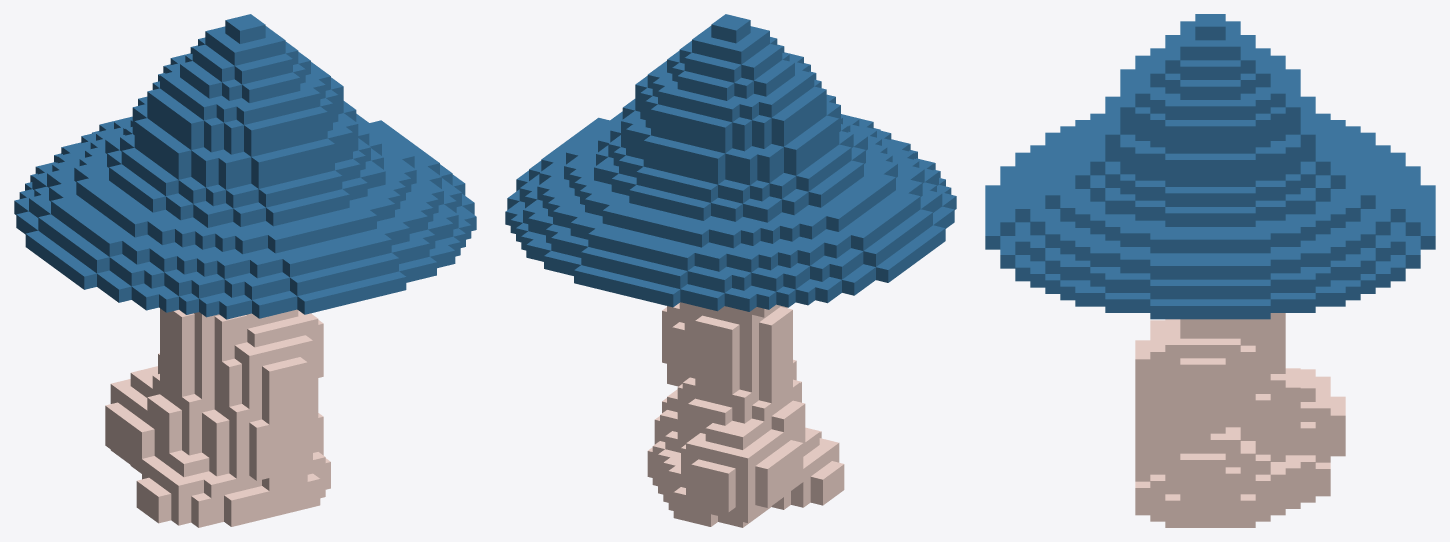
Rendered from Shroom4.obj.
3 views of the same model, side by side, from view 1: azimuth 30°, elevation 25°; view 2: azimuth 150°, elevation 25°; view 3: azimuth 270°, elevation 25° (orthographic). The views are drawn at different scales.
Parts seen in each view (by area): view 1: Shroom4; view 2: Shroom4; view 3: Shroom4.
Boxes of the visible parts, bbox=[...] form: Shroom4: bbox=[14, 14, 476, 527]; Shroom4: bbox=[505, 14, 956, 527]; Shroom4: bbox=[985, 14, 1435, 527].
Bounding box in the file's own units: 30 × 35 × 30.
1 material, 1 textured.
